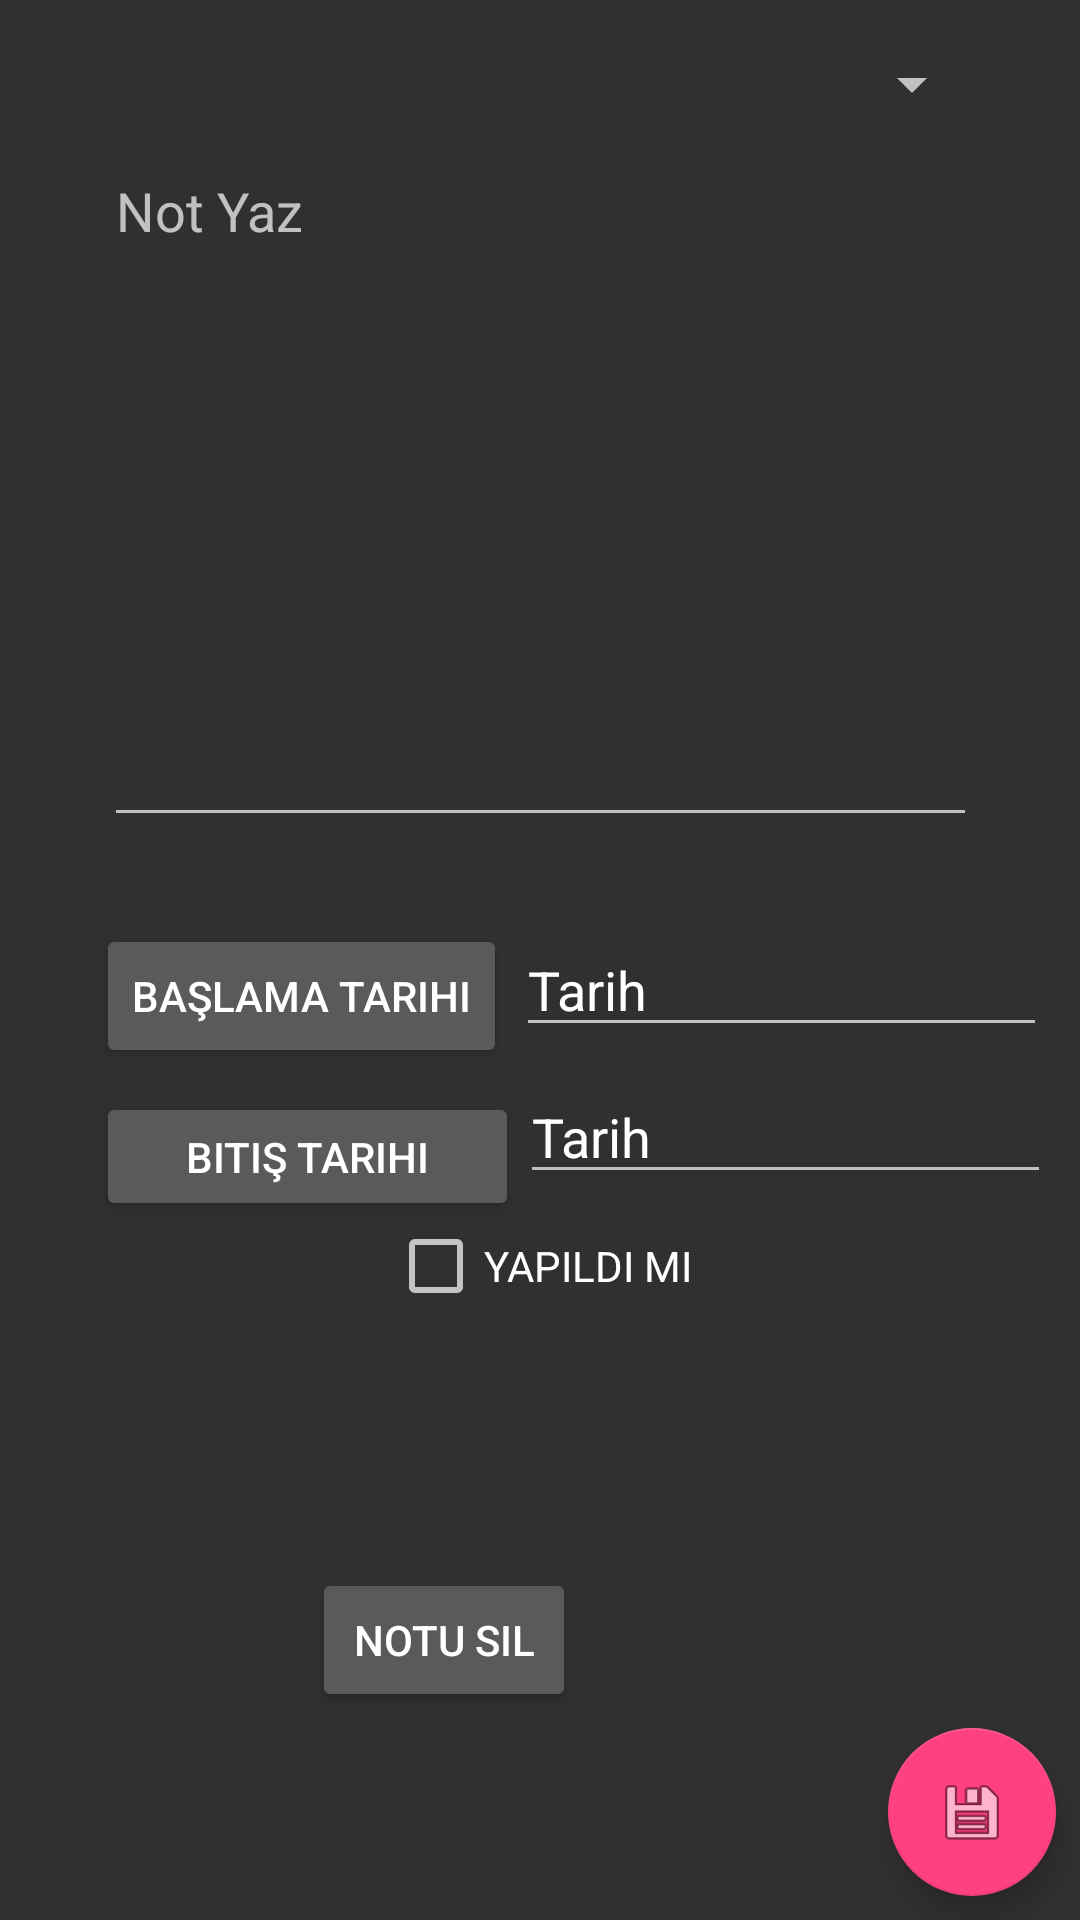

Icon click points for this 1080x1920 phone screenshot, format (x=x, y=y):
save: (x=972, y=1812)
